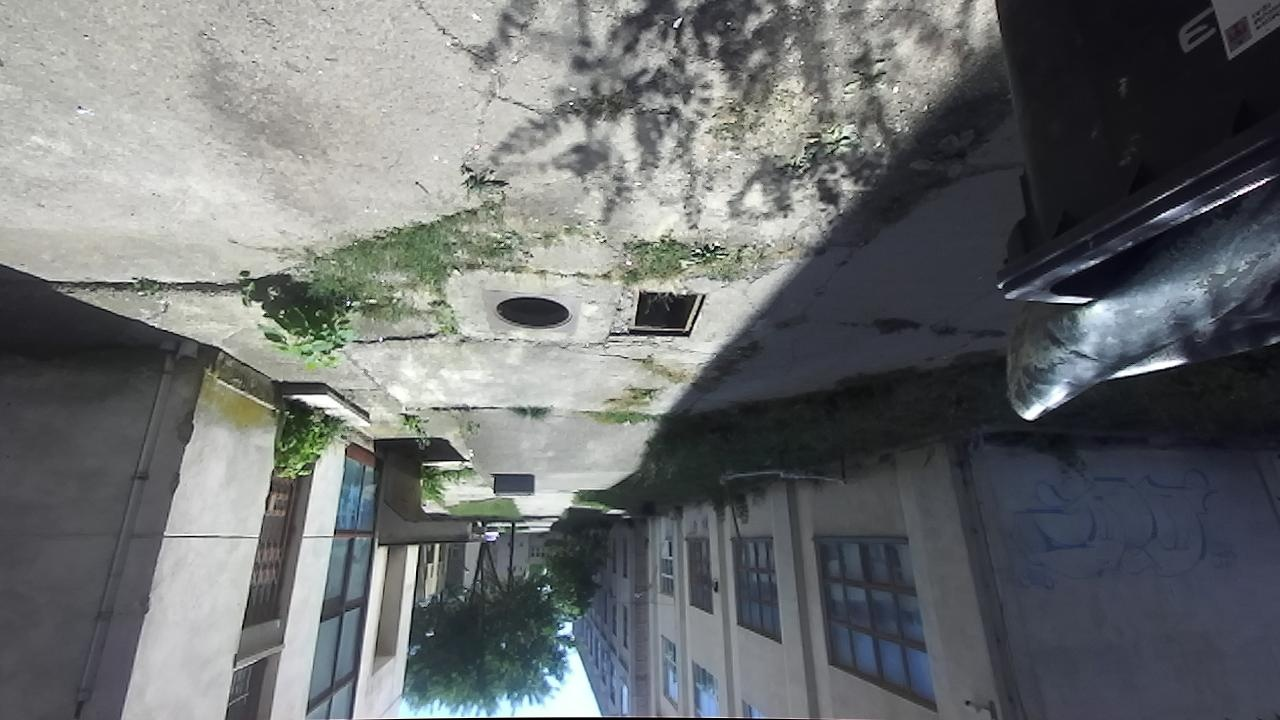drain: (626, 287, 712, 340), (488, 292, 577, 335)
